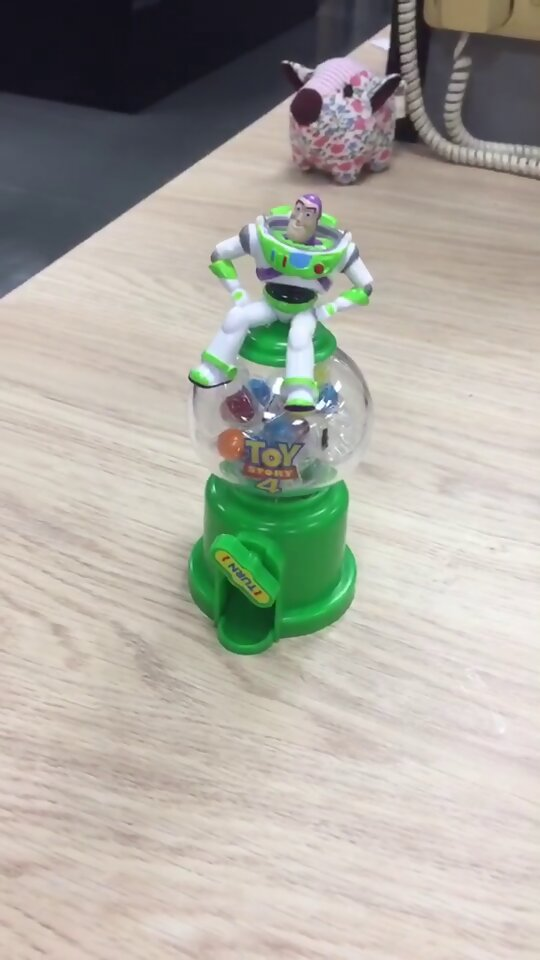buzz: (180, 188, 378, 655)
